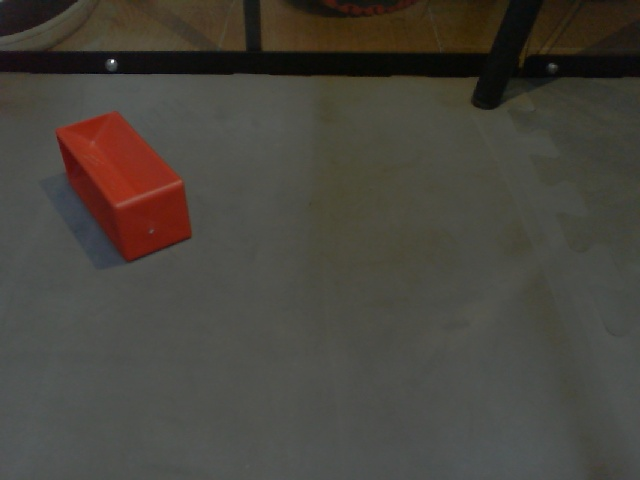RedSample: (53, 108, 197, 268)
